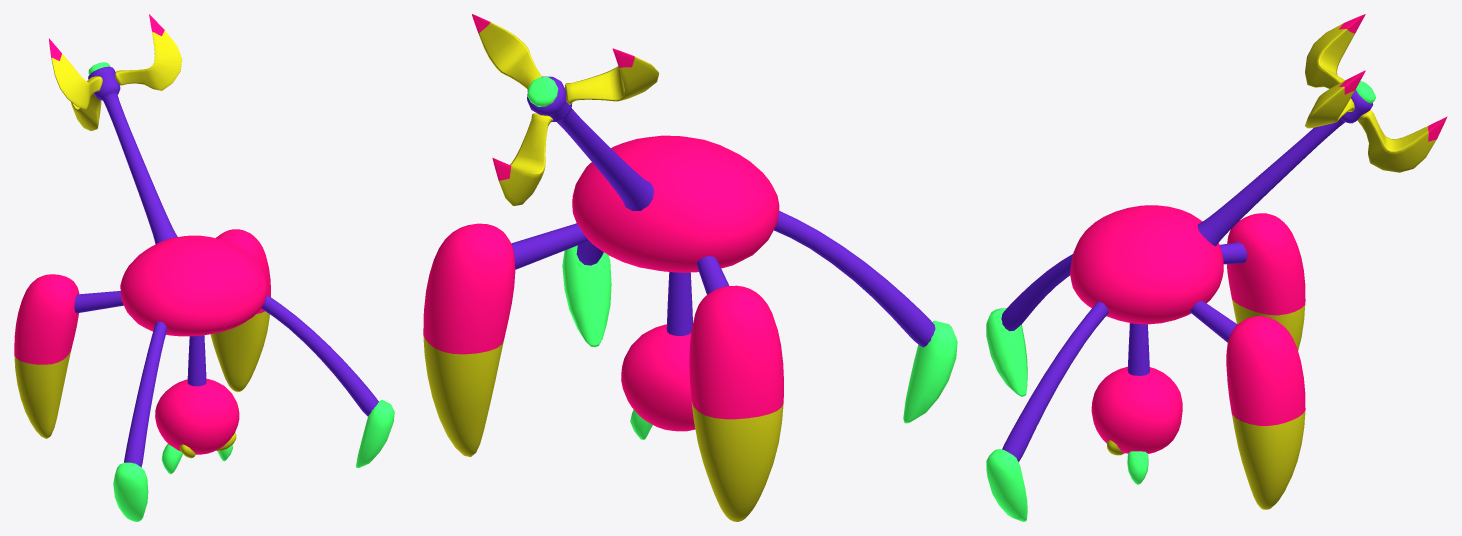
The model's file is Xormite_Ranged.fbx.
3 views of the same model, side by side, from view 1: azimuth 30°, elevation 25°; view 2: azimuth 150°, elevation 25°; view 3: azimuth 270°, elevation 25° (orthographic). The views are drawn at different scales.
Visible parts, largest first — view 1: pBody, pFeet, pHead, pArms, pClaw, polySurface7, pHands, pNeck, pLegs, pJaws; view 2: pFeet, pBody, pClaw, pHands, pHead, pArms, polySurface7, pLegs, pNeck, polySurface8; view 3: pFeet, pBody, pClaw, pHead, pArms, pHands, polySurface7, pLegs, pNeck, pJaws.
Part boxes in pixels (x1,y1,x2,y2): pBody: [120, 235, 267, 336]; pFeet: [14, 229, 270, 438]; pHead: [155, 378, 239, 454]; pArms: [124, 295, 378, 467]; pClaw: [49, 14, 181, 130]; polySurface7: [88, 66, 177, 244]; pHands: [113, 400, 394, 521]; pNeck: [187, 335, 206, 386]; pLegs: [74, 291, 123, 313]; pJaws: [161, 444, 232, 474]; pFeet: [423, 223, 783, 521]; pBody: [572, 135, 779, 272]; pClaw: [472, 14, 659, 205]; pHands: [562, 245, 957, 423]; pHead: [621, 324, 695, 431]; pArms: [576, 210, 935, 347]; polySurface7: [527, 76, 654, 210]; pLegs: [511, 223, 729, 294]; pNeck: [666, 272, 692, 336]; polySurface8: [527, 77, 558, 106]; pFeet: [1226, 213, 1305, 509]; pBody: [1070, 205, 1223, 324]; pClaw: [1305, 14, 1447, 172]; pHead: [1091, 366, 1182, 453]; pArms: [1001, 254, 1108, 462]; pHands: [986, 308, 1027, 521]; polySurface7: [1197, 90, 1373, 246]; pLegs: [1190, 242, 1247, 342]; pNeck: [1127, 323, 1149, 375]; pJaws: [1127, 451, 1148, 484].
Bounding box in the file's own units: 341 × 436 × 426.
